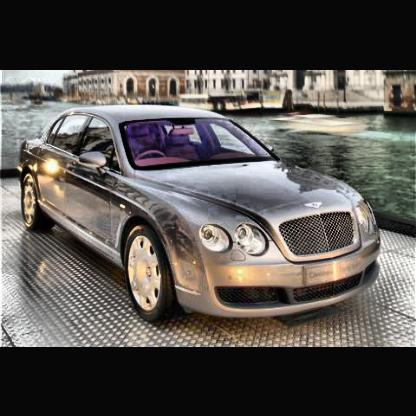Bentley Continental Flying Spur Sedan 2007: (19, 105, 386, 326)
